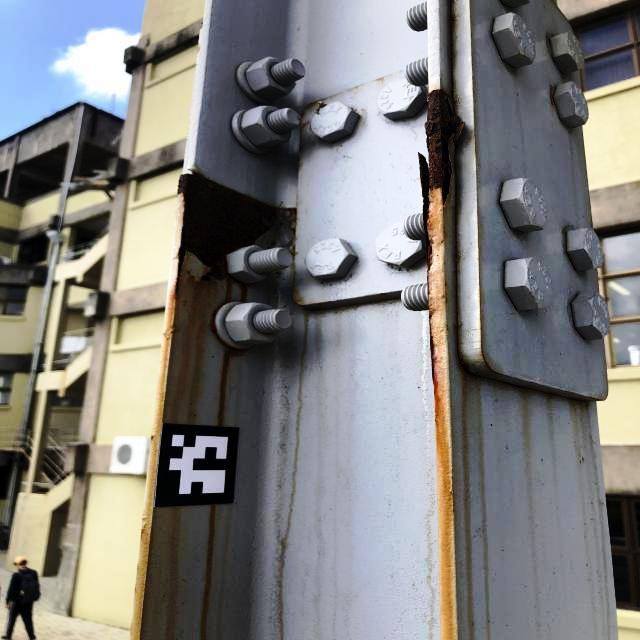Corrosion: (173, 173, 276, 311), (418, 89, 463, 223)
